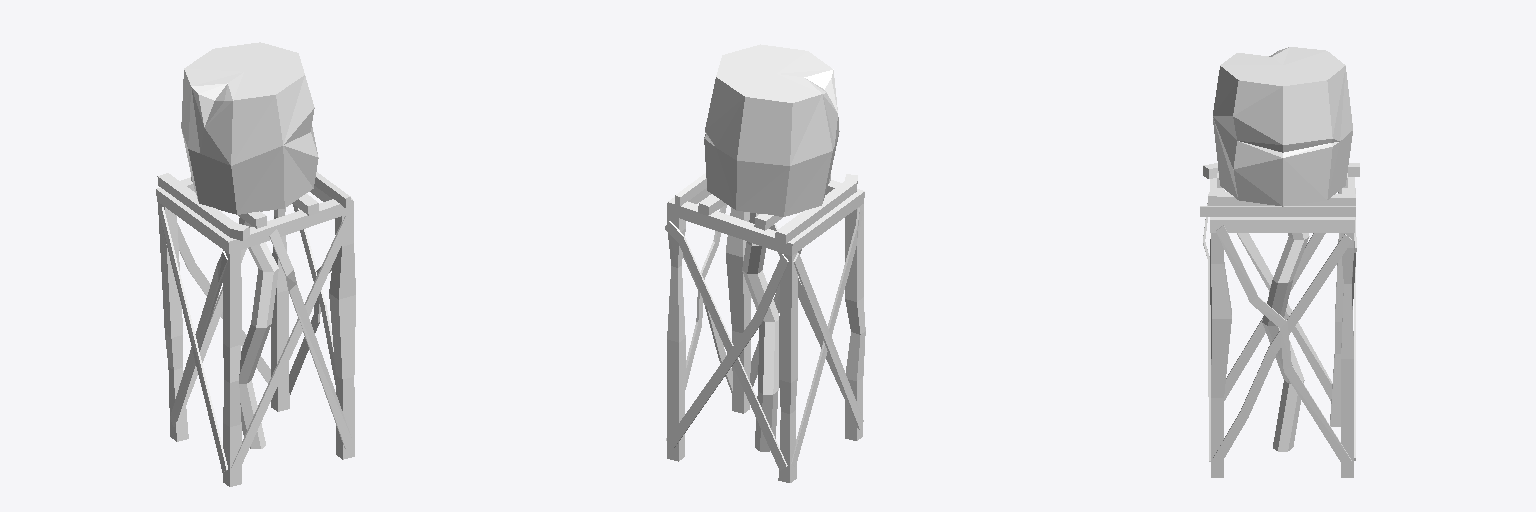
File: BG_WaterResevoir.obj
3 renders of one model, left to right at view 1: azimuth 30°, elevation 25°; view 2: azimuth 150°, elevation 25°; view 3: azimuth 270°, elevation 25°, orthographic.
Parts seen in each view (by area): view 1: Reservoir; view 2: Reservoir; view 3: Reservoir.
Boxes of the visible parts, x1=… form: Reservoir: x1=156, y1=42, x2=355, y2=486; Reservoir: x1=665, y1=44, x2=865, y2=482; Reservoir: x1=1200, y1=47, x2=1359, y2=477.
Bounding box in the file's own units: 33.33 × 91.63 × 34.85.